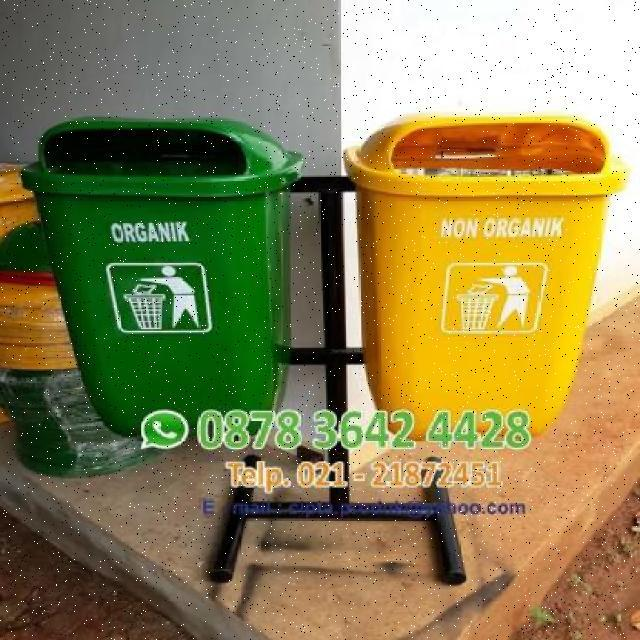garbage container: (334, 107, 640, 464), (15, 108, 315, 457)
